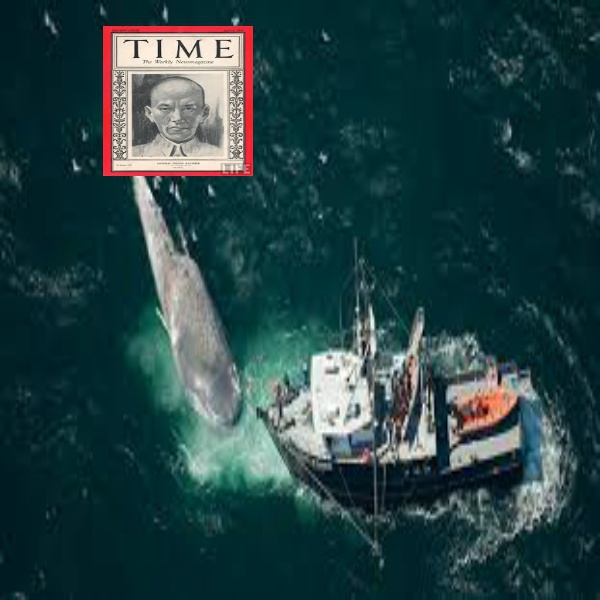time_cover: (96, 16, 250, 173)
